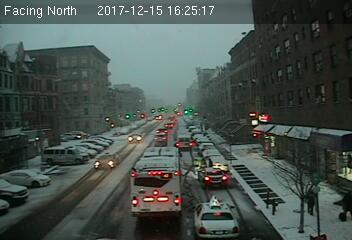bus: (128, 145, 184, 219)
car: (194, 196, 242, 238), (197, 166, 229, 187), (93, 151, 119, 169), (205, 155, 229, 173), (126, 133, 143, 142), (154, 134, 166, 143)
truck: (176, 135, 192, 150)
